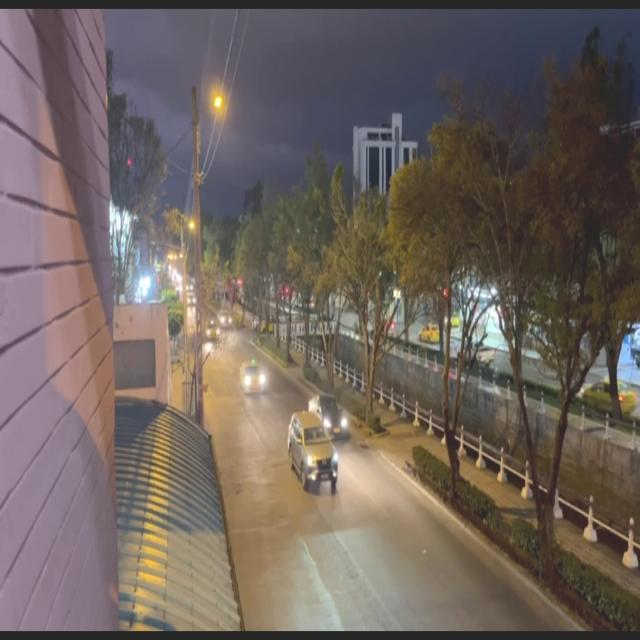CMT: (290, 418, 335, 490)
